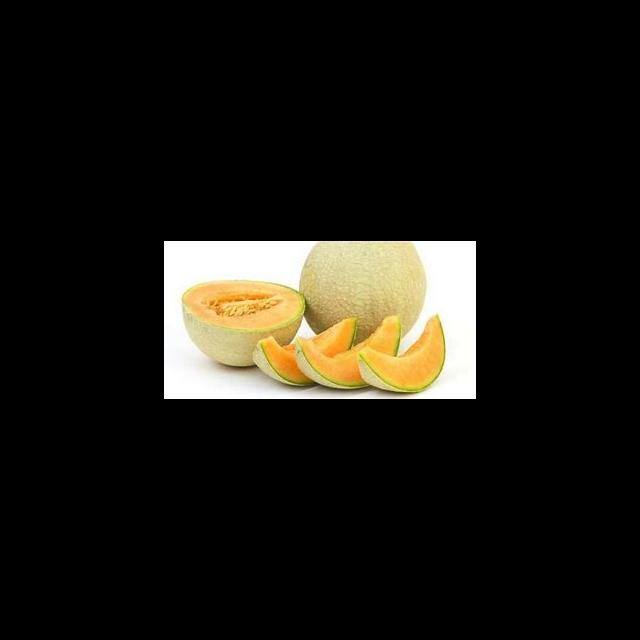Hami Melon: (295, 241, 428, 340), (181, 280, 305, 369), (295, 316, 402, 390), (358, 314, 446, 392)
